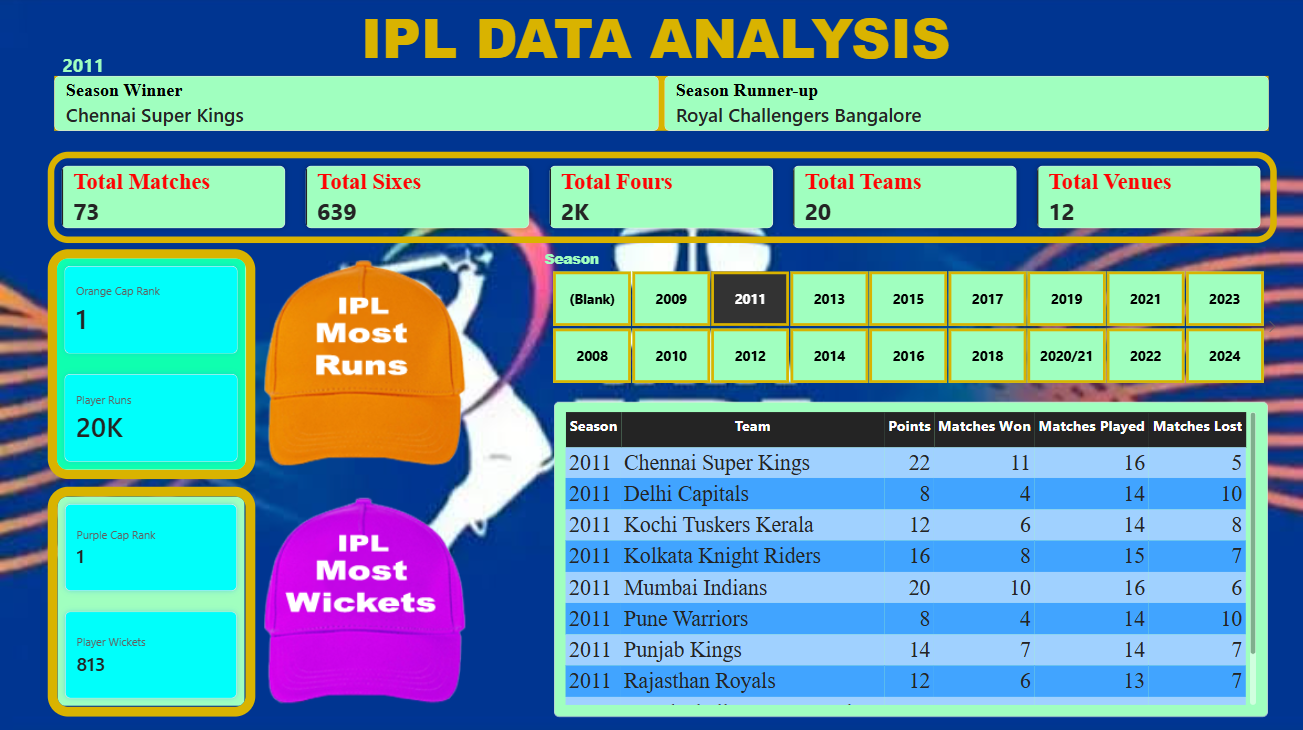

This screenshot's page, from the dashboard's own definition file:
{"tool":"powerbi","page":{"name":"Page 1","canvas":[1920,1080],"ordinal":0},"visuals":[{"type":"cardVisual","fields":{"Data":["ball_by_ball_data.Total Matches","ball_by_ball_data.Total Sixes","ball_by_ball_data.Total Fours","ipl_matches_data.Total Teams","ipl_matches_data.Total Venues"]},"box":[71.8,226.4,1809.2,134.4],"z":0},{"type":"cardVisual","fields":{"Data":["ball_by_ball_data.Orange Cap Rank","ball_by_ball_data.Player Runs"]},"box":[71.8,369.9,305.5,338.7],"z":1000},{"type":"cardVisual","fields":{"Data":["ball_by_ball_data.Purple Cap Rank","ball_by_ball_data.Player Wickets"]},"box":[71.8,719.6,305.5,338.7],"z":2000},{"type":"slicer","fields":{"Values":["IPL_Seasons.Season"]},"box":[795.1,369.9,1085.9,198.8],"z":3000},{"type":"cardVisual","fields":{"Data":["ipl_matches_data.Season Winner","ipl_matches_data.Season Runner-up"],"Rows":["ipl_matches_data.season"]},"box":[71.8,69.9,1809.2,136.2],"z":4000},{"type":"tableEx","fields":{"Values":["IPL_Seasons.Season","IPL_Points_Table.Team","IPL_Points_Table.Points","IPL_Points_Table.Matches Won","IPL_Points_Table.Matches Played","IPL_Points_Table.Matches Lost"]},"box":[817.2,594.5,1050.9,463.8],"z":5000},{"type":"image","box":[377.3,719.6,325.8,338.7],"z":6000},{"type":"image","box":[377.3,369.9,325.8,338.7],"z":7000},{"type":"textbox","box":[99.4,99.4,1126.4,300],"z":8000},{"type":"textbox","box":[100,100,300,300],"z":9000},{"type":"textbox","box":[99.4,99.4,206.1,106.7],"z":10000},{"type":"textbox","box":[14.7,0,1904.9,119.6],"z":11000}]}

Visuals, with their boxes in screenshot pixels (x1, y1, x2, y2), scaled from the page's 1920x1080 canvas onto the 1303x730 screenshot:
cardVisual - ball_by_ball_data.Total Matches x ball_by_ball_data.Total Sixes: <box>49,153,1277,244</box>
cardVisual - ball_by_ball_data.Orange Cap Rank x ball_by_ball_data.Player Runs: <box>49,250,256,479</box>
cardVisual - ball_by_ball_data.Purple Cap Rank x ball_by_ball_data.Player Wickets: <box>49,486,256,715</box>
slicer - IPL_Seasons.Season: <box>540,250,1277,384</box>
cardVisual - ipl_matches_data.Season Winner x ipl_matches_data.Season Runner-up: <box>49,47,1277,139</box>
tableEx - IPL_Seasons.Season x IPL_Points_Table.Team: <box>555,402,1268,715</box>
image: <box>256,486,477,715</box>
image: <box>256,250,477,479</box>
textbox: <box>67,67,832,270</box>
textbox: <box>68,68,271,270</box>
textbox: <box>67,67,207,139</box>
textbox: <box>10,0,1302,81</box>
